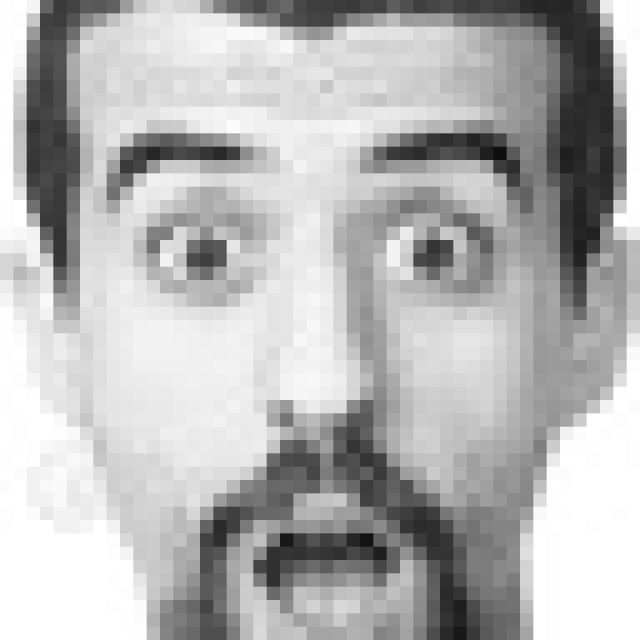surprise: (96, 113, 541, 640)
